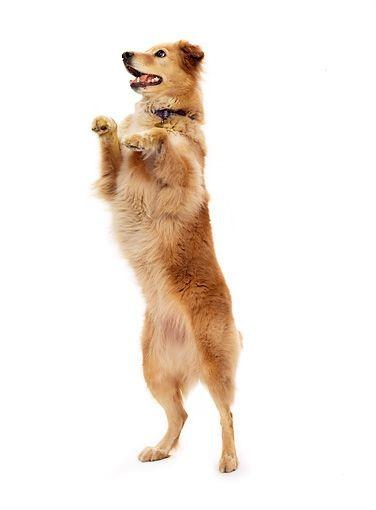adult_dog: (90, 37, 244, 475)
